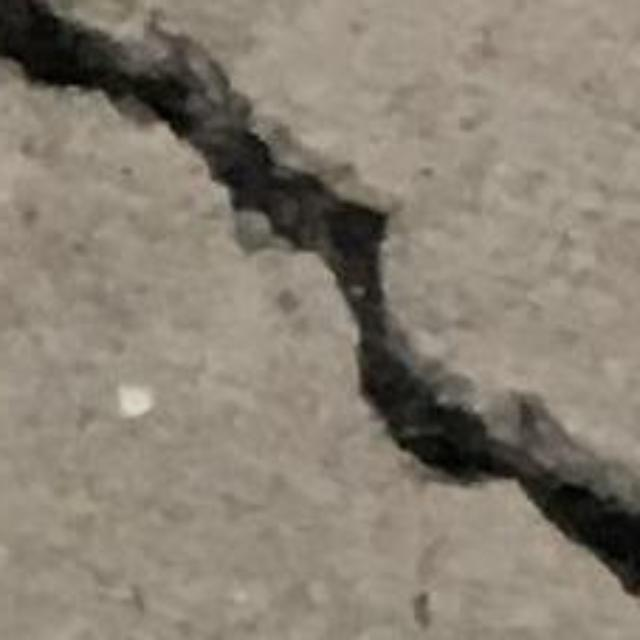crack: (0, 0, 639, 593)
